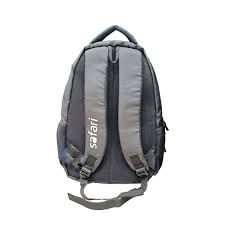backpack: (55, 24, 168, 210)
